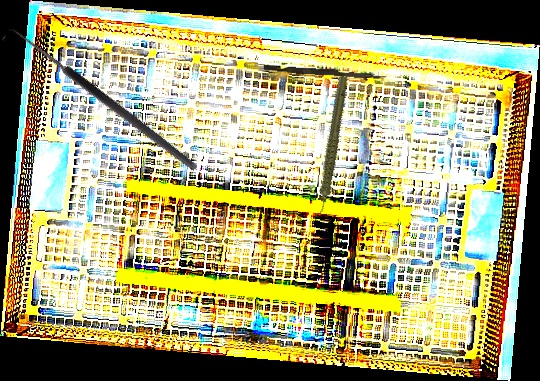Handpiece: (283, 74, 377, 219)
Hook Surgical: (0, 23, 200, 181)
Pusher: (263, 64, 387, 80)
